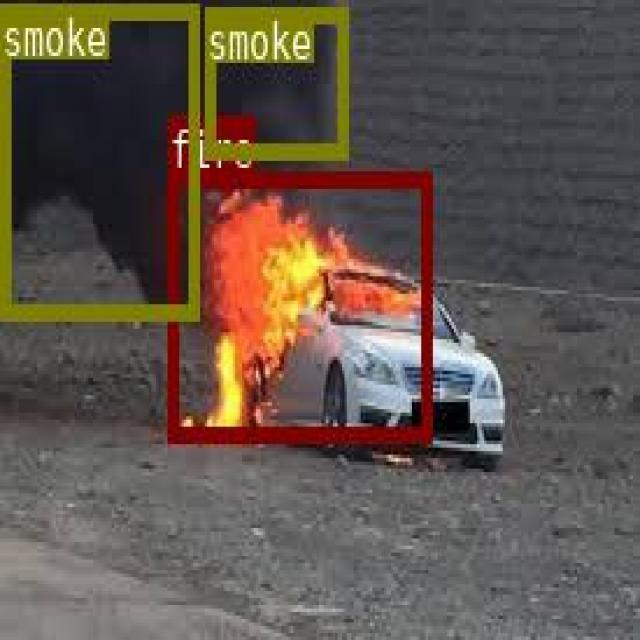fire: (166, 168, 428, 439)
smoke: (0, 1, 195, 316), (205, 7, 345, 156)
